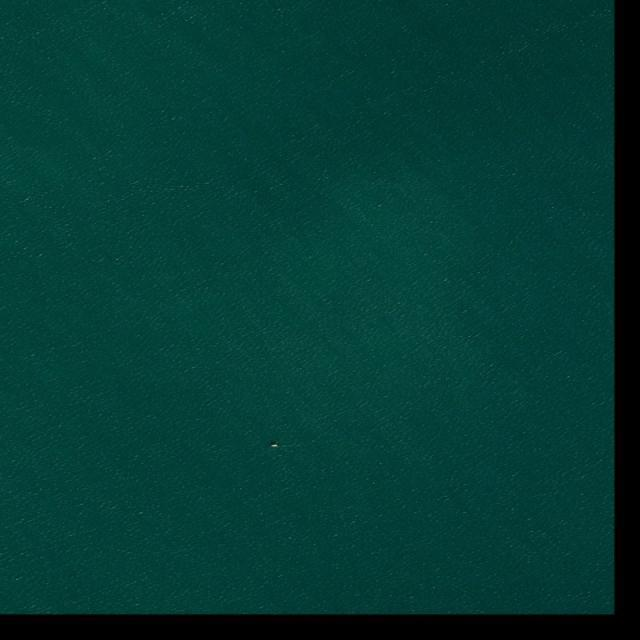ship: (270, 444, 278, 448)
